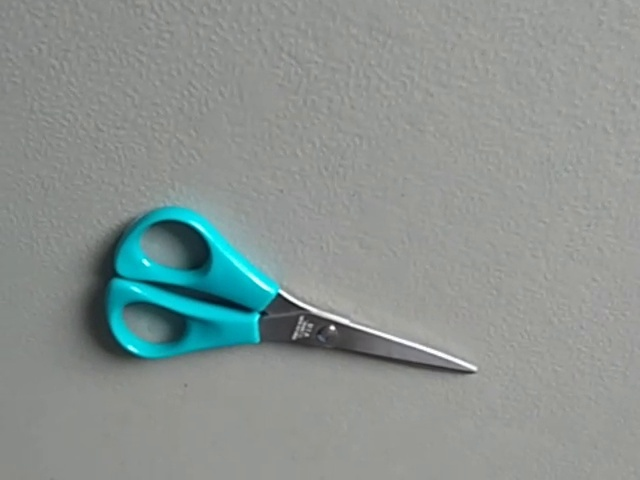Sizer: (92, 195, 489, 409)
